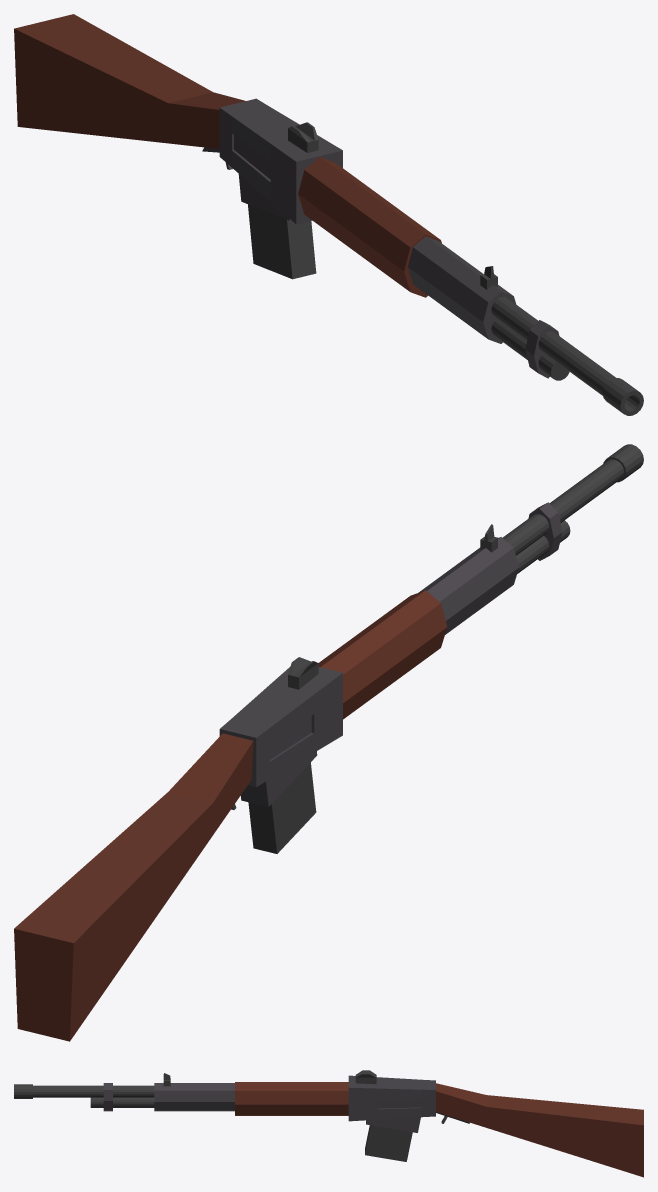
The model's file is Weapon.fbx.
The picture shows the model from 3 angles, top to bottom: view 1: azimuth 30°, elevation 25°; view 2: azimuth 150°, elevation 25°; view 3: azimuth 270°, elevation 25°; orthographic projection. The views are drawn at different scales.
Visible parts, largest first — view 1: Cube.006, Cube.005; view 2: Cube.006, Cube.005; view 3: Cube.006, Cube.005.
Part boxes in pixels (box(x1,y1,x2,y2)): Cube.006: box(14, 14, 643, 415); Cube.005: box(248, 204, 316, 279); Cube.006: box(14, 444, 643, 1041); Cube.005: box(248, 762, 316, 853); Cube.006: box(14, 1070, 643, 1177); Cube.005: box(365, 1125, 412, 1161).
Size of the model in its own units: 436 by 1280 by 7426.
